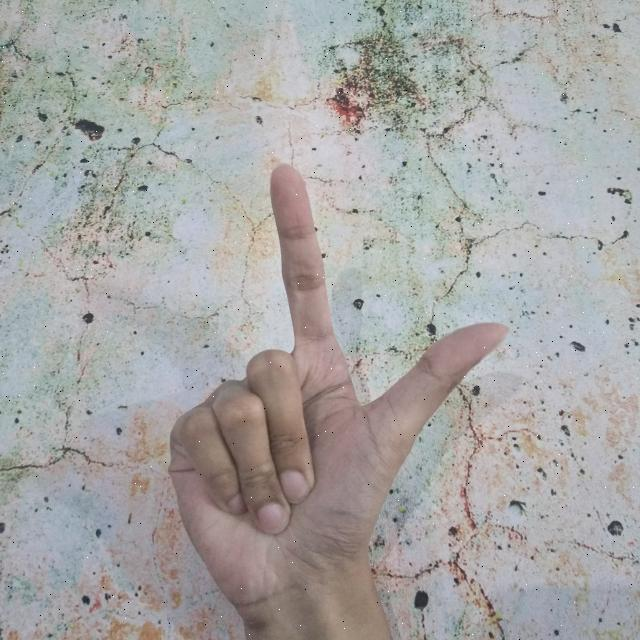L: (162, 158, 515, 640)
